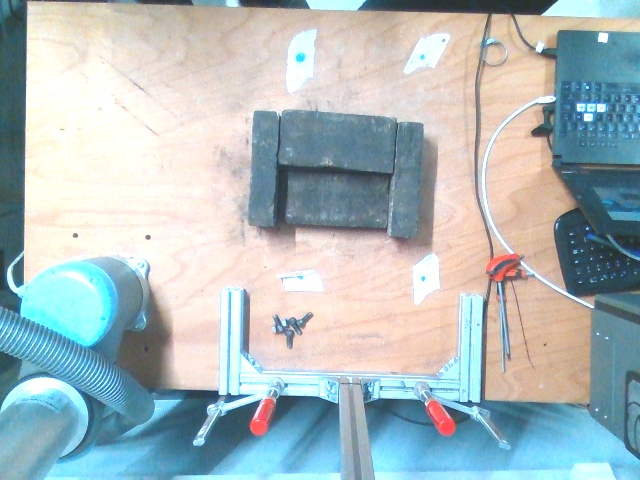brick: (282, 111, 393, 168), (286, 168, 385, 224)
brick-side: (390, 124, 422, 234), (247, 111, 276, 222)
